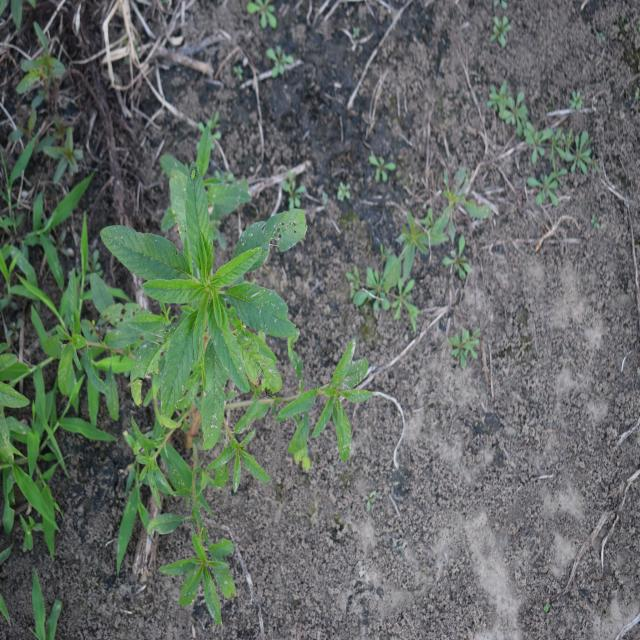Carpetweed: (488, 78, 594, 209), (343, 248, 424, 336), (447, 326, 482, 371), (443, 233, 472, 283), (265, 44, 294, 80), (245, 0, 277, 32)
Waterhemp: (38, 126, 376, 628), (438, 166, 491, 238), (398, 212, 450, 276)
